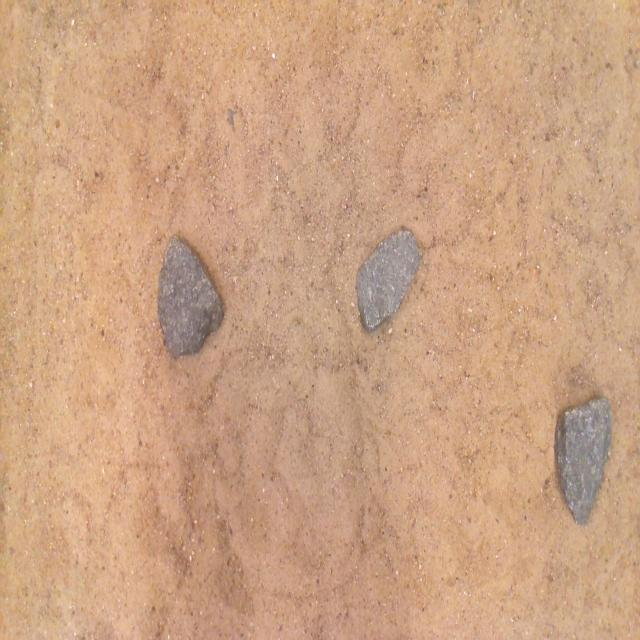rock: (157, 236, 223, 357), (555, 396, 611, 524), (357, 230, 420, 329)
